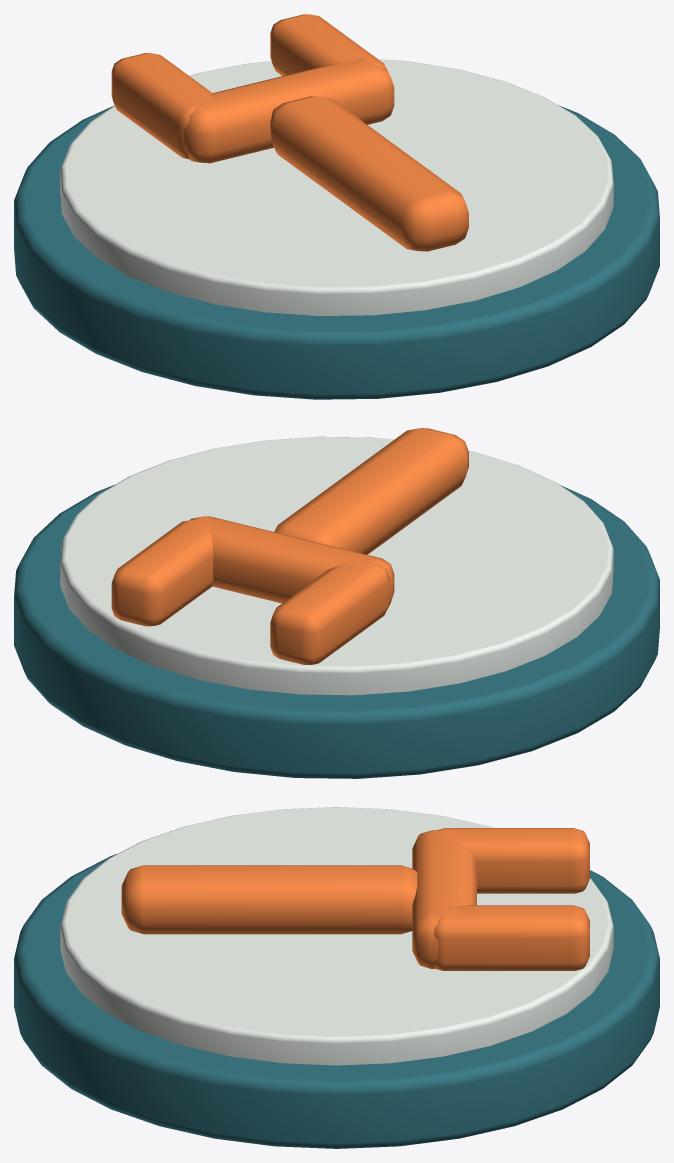
File: Badge_Engineer.glb
3 views of the same model, one above another, from view 1: azimuth 30°, elevation 25°; view 2: azimuth 150°, elevation 25°; view 3: azimuth 270°, elevation 25° (orthographic).
Visible parts, largest first — view 1: Badge ceramic inset, Badge teal medallion, Wrench shaft, Wrench bridge, Wrench jaw, Wrench jaw.001; view 2: Badge ceramic inset, Badge teal medallion, Wrench shaft, Wrench jaw, Wrench bridge, Wrench jaw.001; view 3: Badge ceramic inset, Badge teal medallion, Wrench shaft, Wrench jaw.001, Wrench jaw, Wrench bridge.
Boxes of the visible parts, left/top/right/bottom form: Badge ceramic inset: left=60, top=59, right=613, bottom=315; Badge teal medallion: left=14, top=105, right=659, bottom=399; Wrench shaft: left=270, top=96, right=468, bottom=251; Wrench bridge: left=183, top=58, right=394, bottom=163; Wrench jaw: left=111, top=53, right=214, bottom=159; Wrench jaw.001: left=270, top=14, right=386, bottom=75; Badge ceramic inset: left=60, top=436, right=613, bottom=695; Badge teal medallion: left=14, top=485, right=659, bottom=778; Wrench shaft: left=274, top=428, right=468, bottom=554; Wrench jaw: left=270, top=559, right=389, bottom=664; Wrench bridge: left=190, top=516, right=394, bottom=609; Wrench jaw.001: left=111, top=520, right=214, bottom=626; Badge ceramic inset: left=60, top=807, right=613, bottom=1065; Badge teal medallion: left=14, top=854, right=659, bottom=1148; Wrench shaft: left=121, top=865, right=417, bottom=934; Wrench jaw.001: left=434, top=905, right=589, bottom=970; Wrench jaw: left=437, top=828, right=589, bottom=893; Wrench bridge: left=412, top=830, right=476, bottom=968.
Bounding box in the file's own units: 0.6 × 0.1475 × 0.6.
